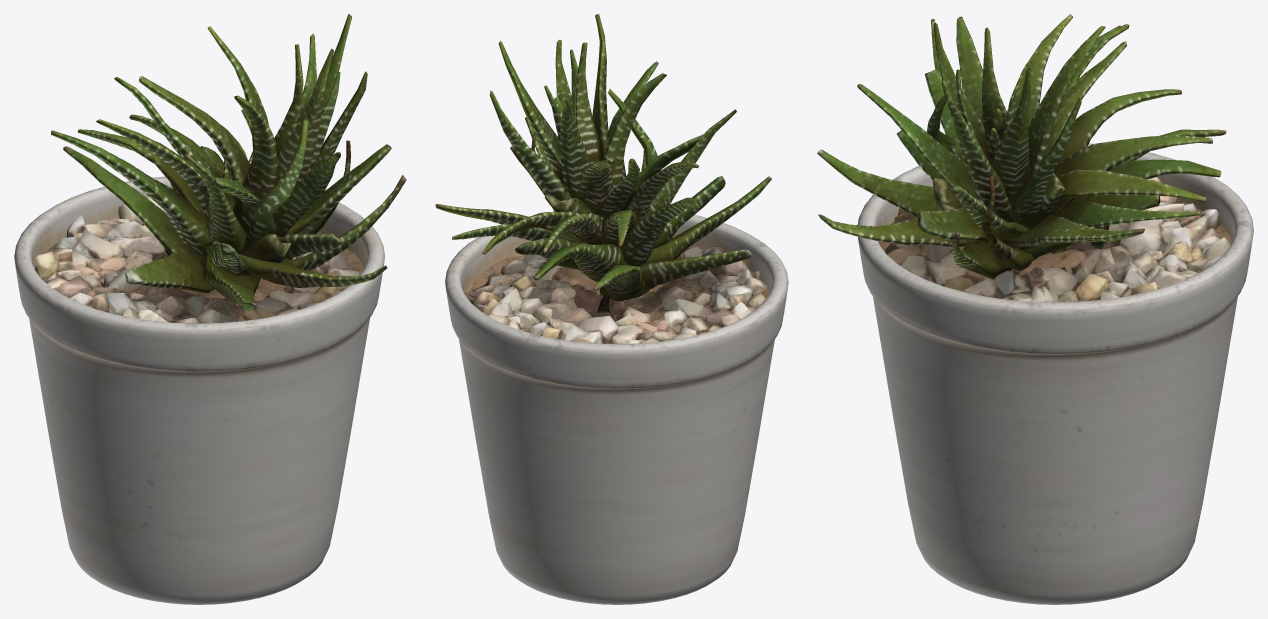
Rendered from plant-succulent.glb.
The picture shows the model from 3 angles, left to right: view 1: azimuth 30°, elevation 25°; view 2: azimuth 150°, elevation 25°; view 3: azimuth 270°, elevation 25°; orthographic projection. The views are drawn at different scales.
Visible parts, largest first — view 1: potted_plant_04_ground; view 2: potted_plant_04_ground; view 3: potted_plant_04_ground.
Boxes of the visible parts, x1,y1,x2,y2 form: potted_plant_04_ground: (14,14,406,604); potted_plant_04_ground: (435,14,788,604); potted_plant_04_ground: (817,14,1253,604).
Bounding box in the file's own units: 0.17 × 0.268 × 0.186.
Materials: 1 (1 with a texture image).
